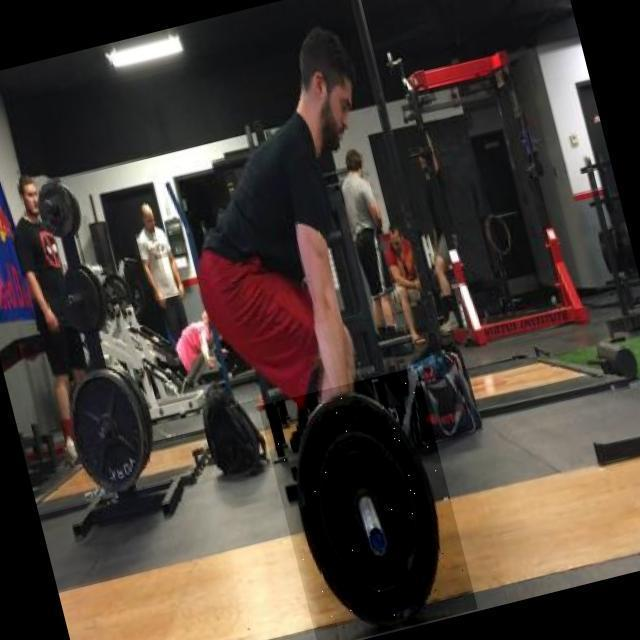barbell: (258, 367, 478, 640)
